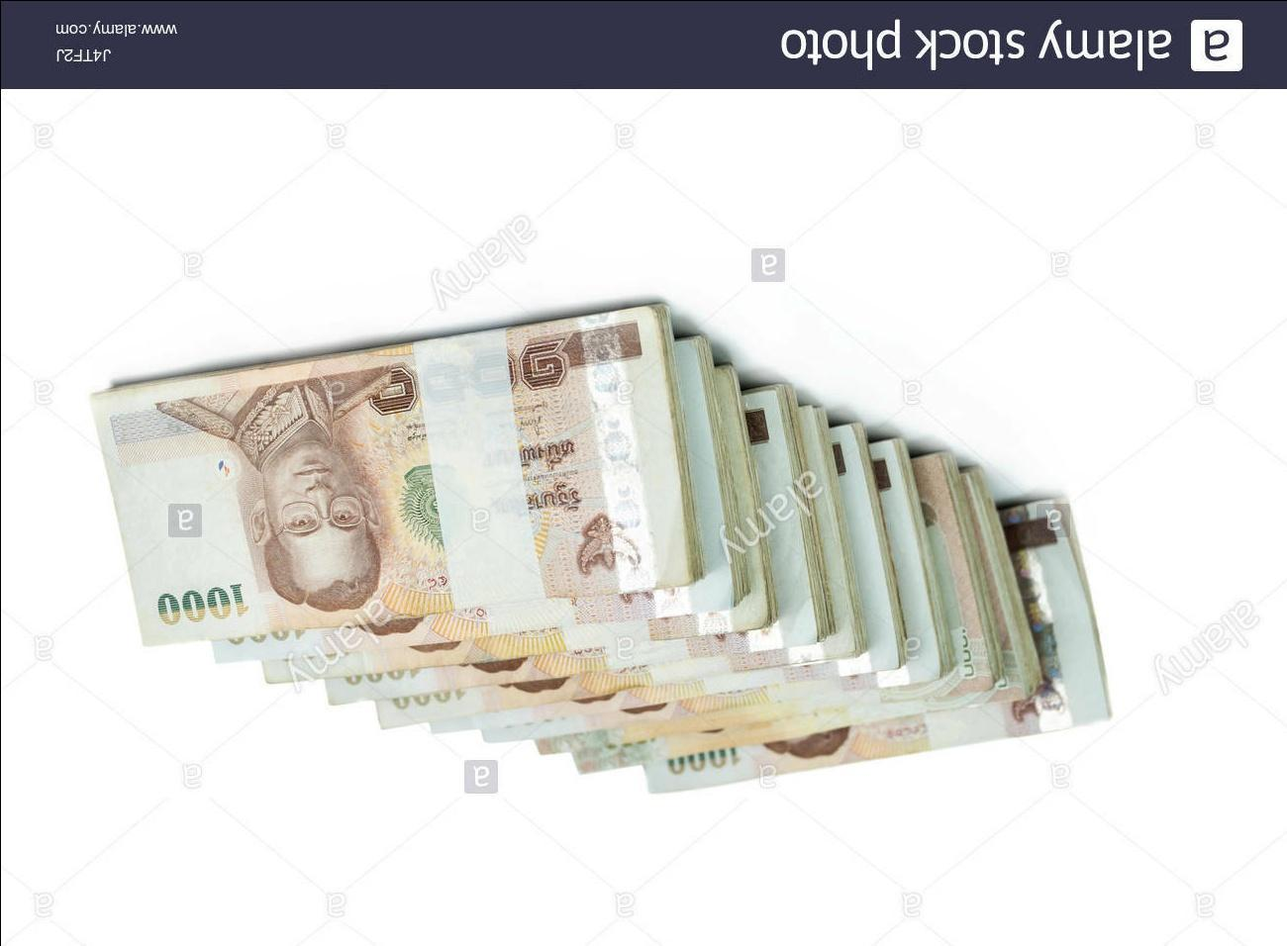1000BahtTai: (107, 313, 661, 625)
